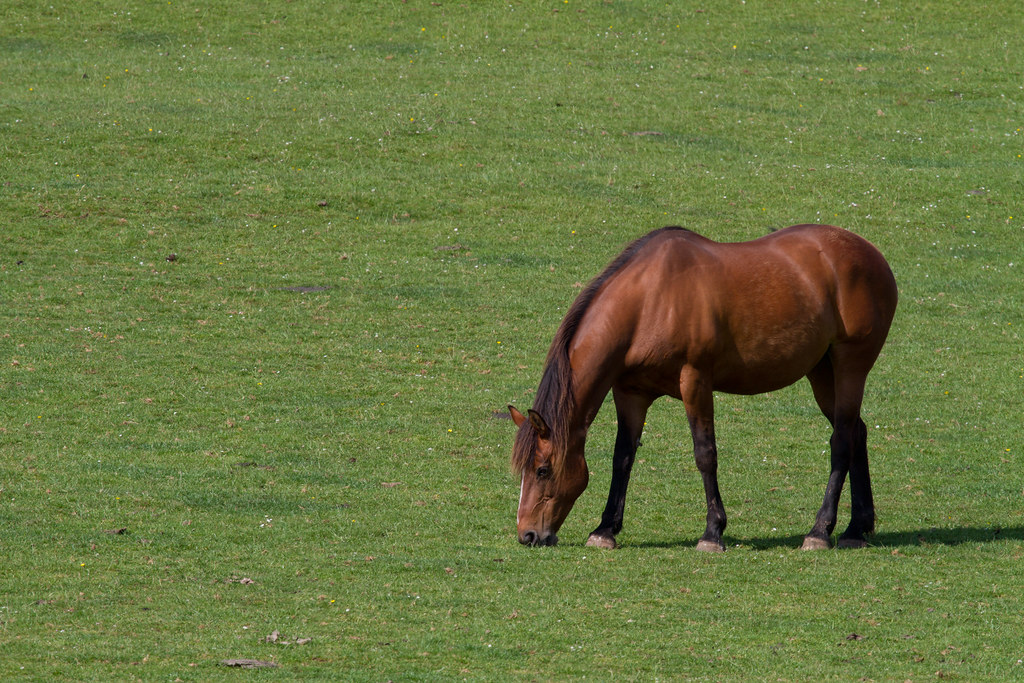horse: (493, 179, 927, 566)
